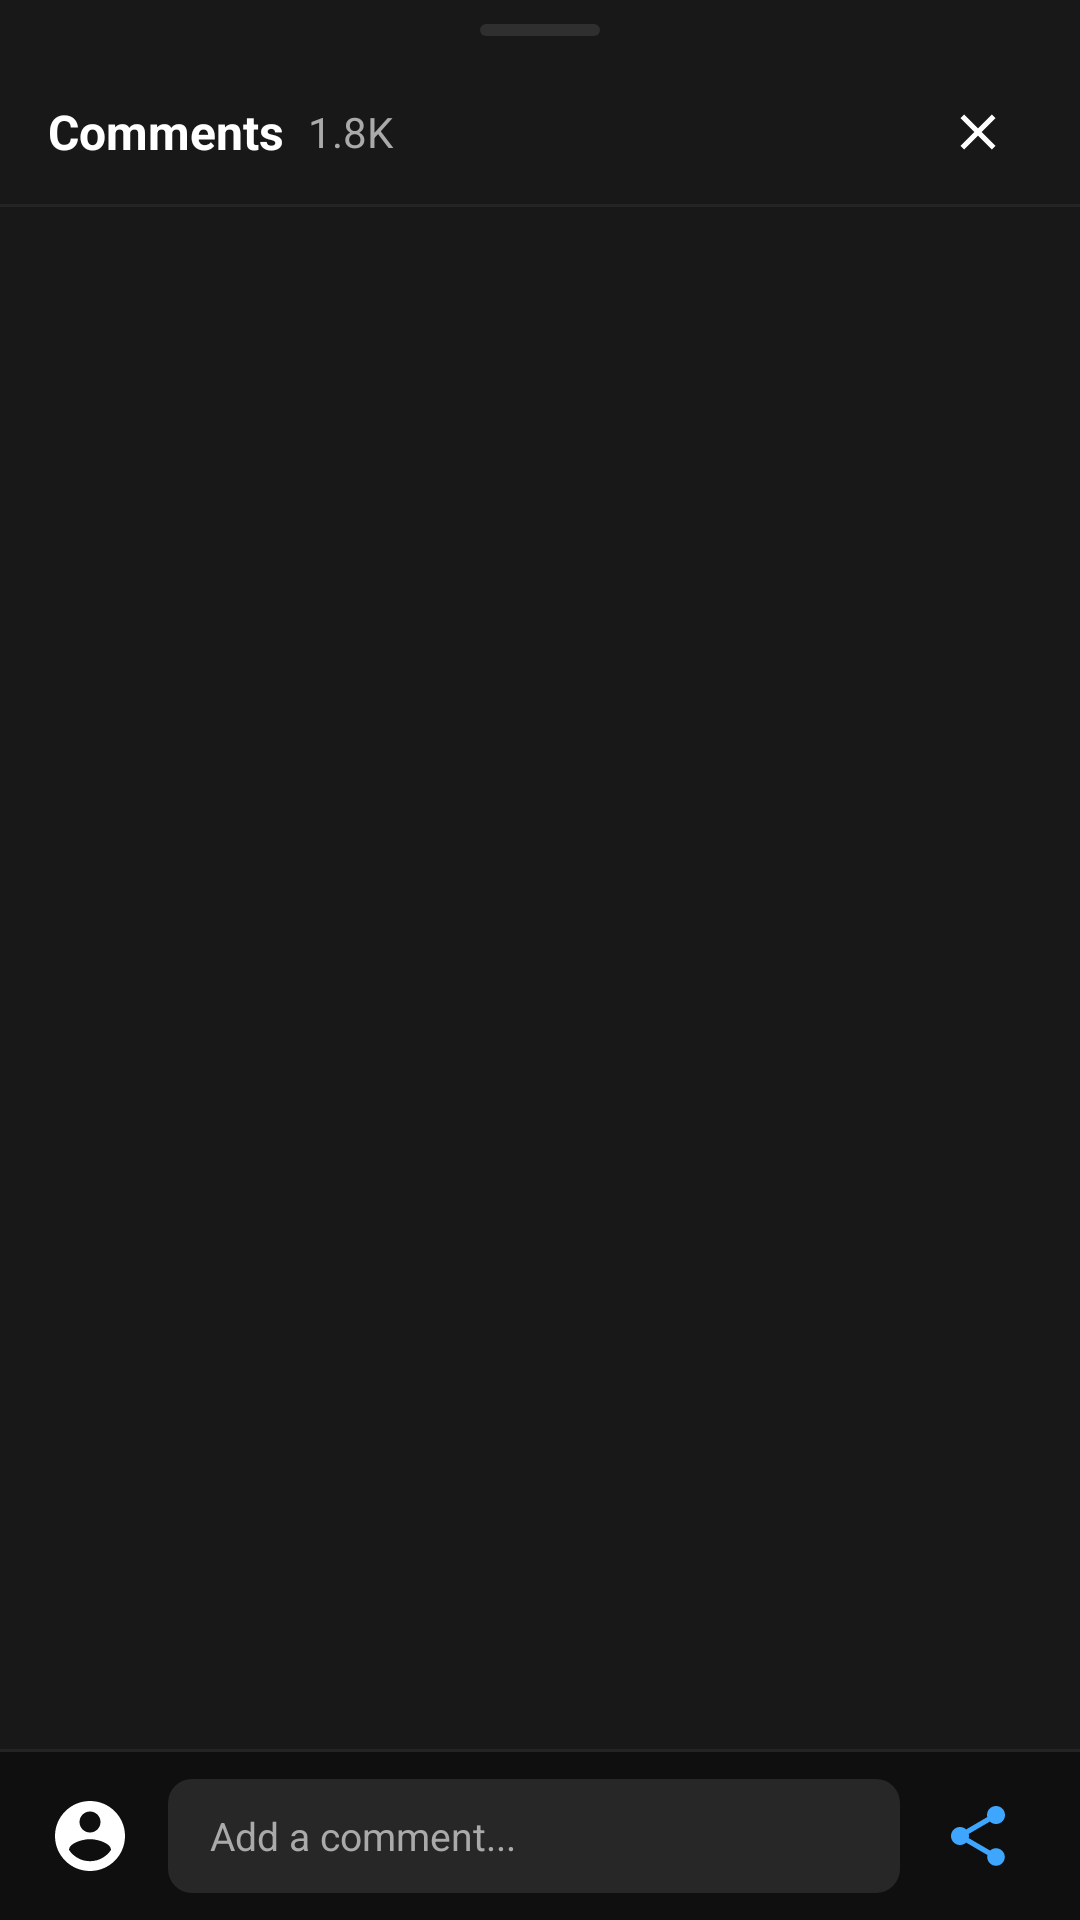

Screen size 1080 × 1920. Icon name, then its box in pixels as BBox(x1, y1, x2, y2):
account circle: BBox(55, 1801, 125, 1871)
Close Comments: BBox(960, 114, 996, 150)
